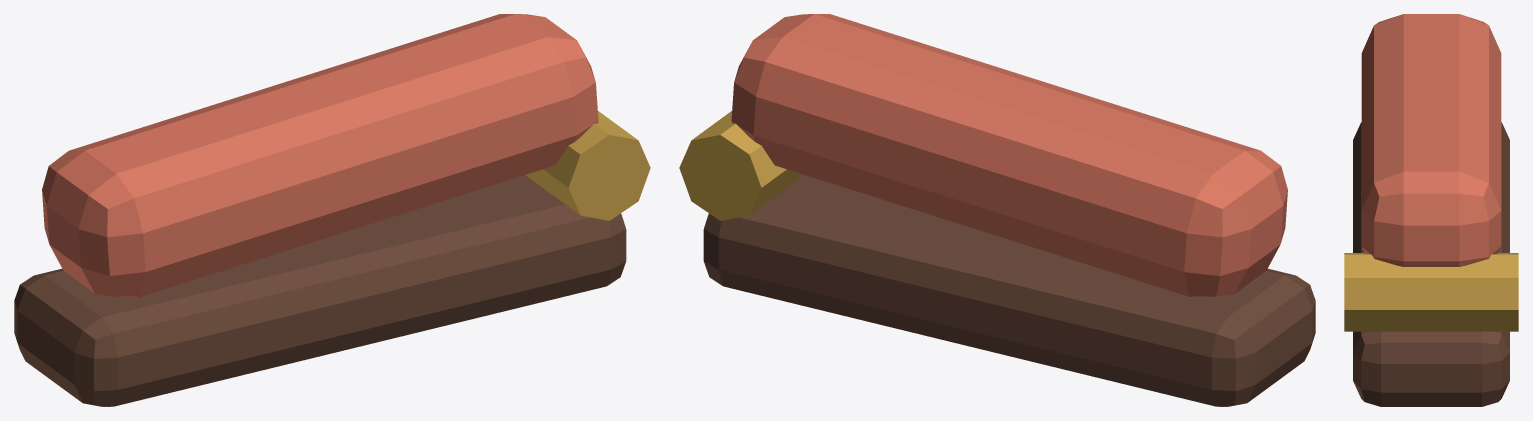
Rendered from stapler.glb.
3 renders of one model, left to right at view 1: azimuth 30°, elevation 25°; view 2: azimuth 150°, elevation 25°; view 3: azimuth 270°, elevation 25°, orthographic. The views are drawn at different scales.
Visible parts, largest first — view 1: stapler; view 2: stapler; view 3: stapler.
Boxes of the visible parts, bbox=[...] form: stapler: bbox=[14, 14, 650, 406]; stapler: bbox=[679, 14, 1315, 406]; stapler: bbox=[1344, 14, 1518, 406].
Size of the model in its own units: 0.162 by 0.0694 by 0.05.
